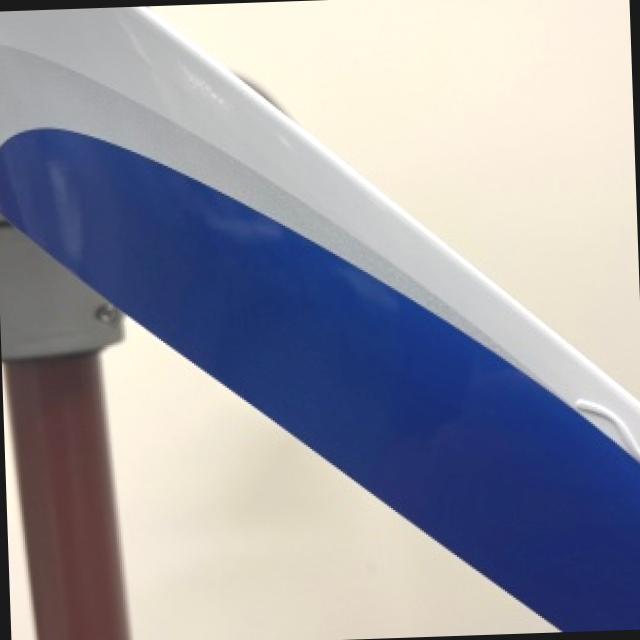healthy: (106, 326, 555, 640)
